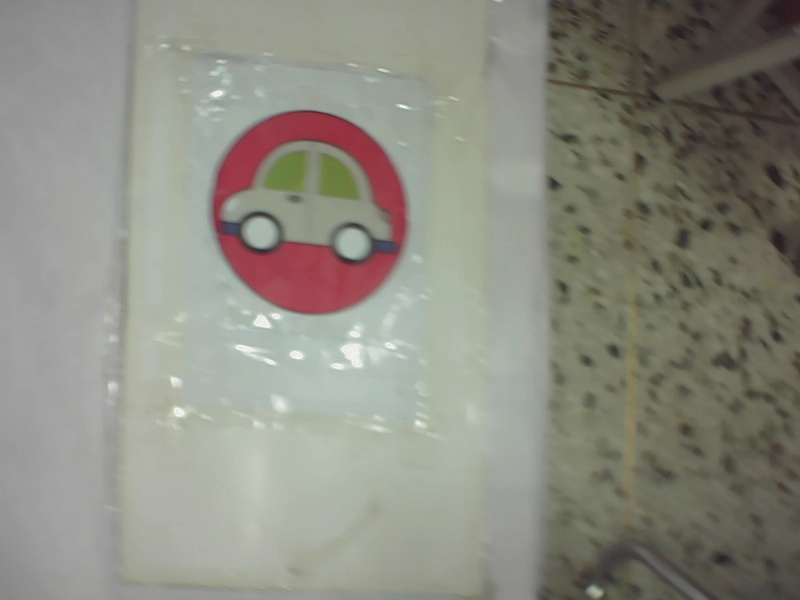areaC: (203, 100, 418, 324)
